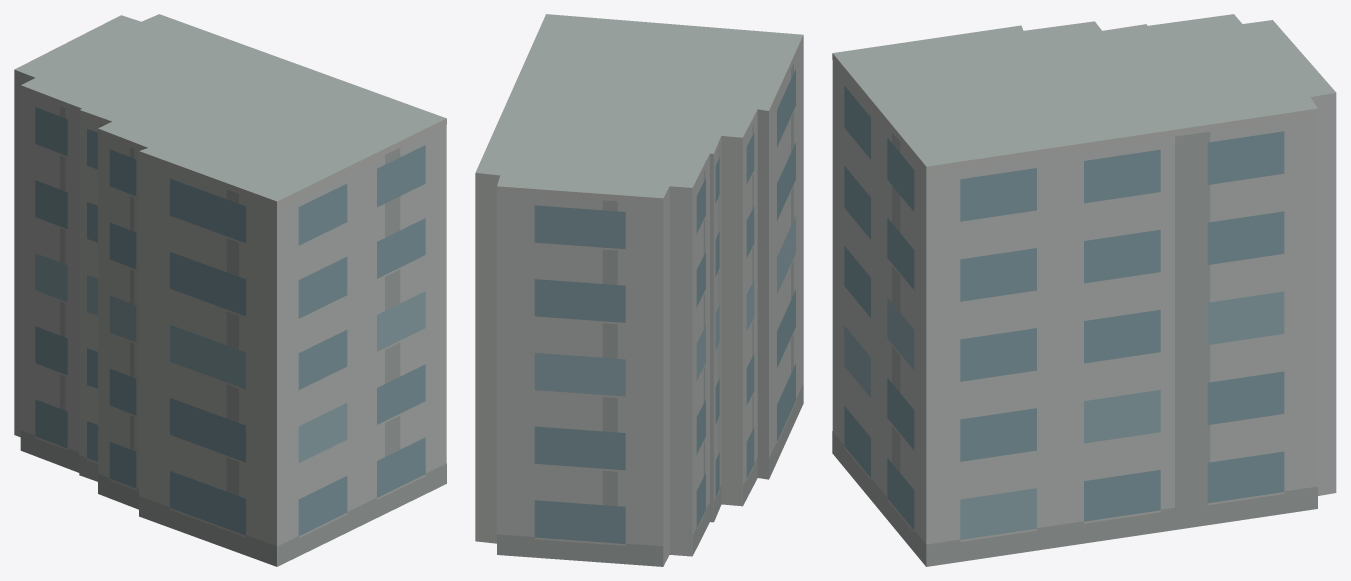
File: survey-upis-32612507.glb
The picture shows the model from 3 angles, left to right: view 1: azimuth 30°, elevation 25°; view 2: azimuth 150°, elevation 25°; view 3: azimuth 270°, elevation 25°; orthographic projection. The views are drawn at different scales.
Parts seen in each view (by area): view 1: survey-upis-32612507.tmp; view 2: survey-upis-32612507.tmp; view 3: survey-upis-32612507.tmp.
Part boxes in pixels (x1,y1,x2,y2): survey-upis-32612507.tmp: (14,14,446,566); survey-upis-32612507.tmp: (475,14,803,566); survey-upis-32612507.tmp: (832,14,1336,566).
Bounding box in the file's own units: 11.54 × 14.1 × 16.1.
